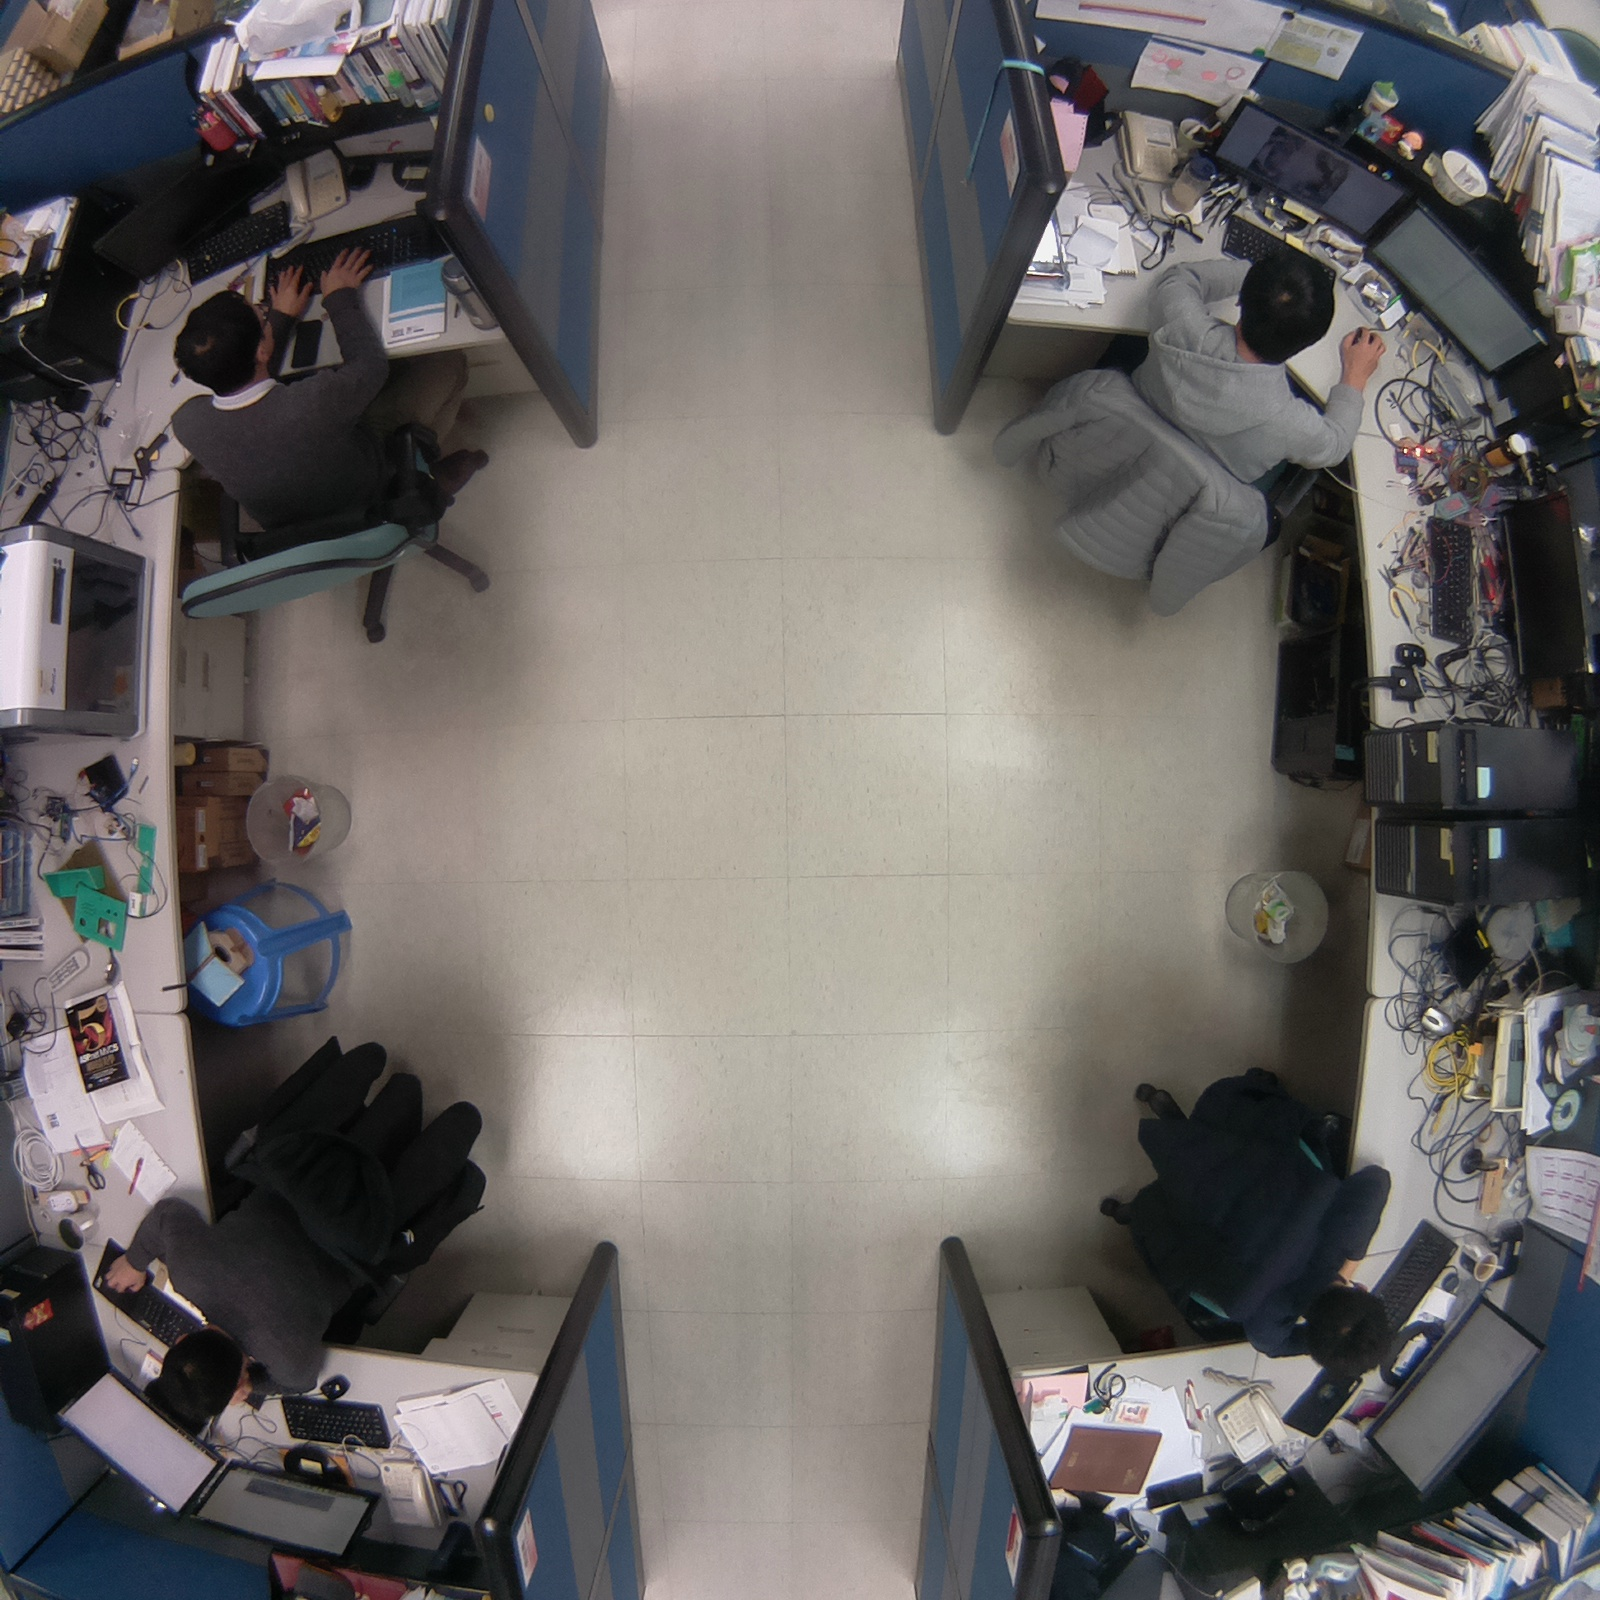head: (1227, 244, 1342, 359), (146, 1323, 249, 1431), (1295, 1280, 1404, 1382), (170, 291, 280, 387)
sitting: (97, 1006, 506, 1429), (970, 231, 1398, 634), (149, 281, 517, 663), (1086, 1045, 1415, 1383)
